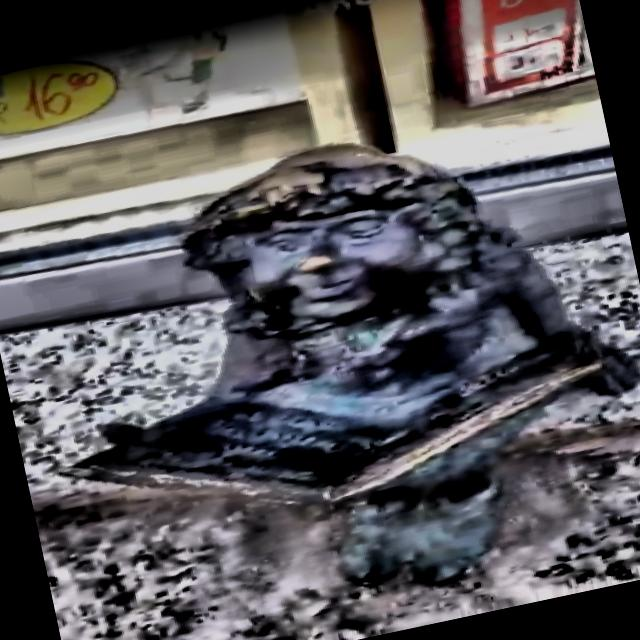Ksiegarka: (0, 84, 640, 640)
